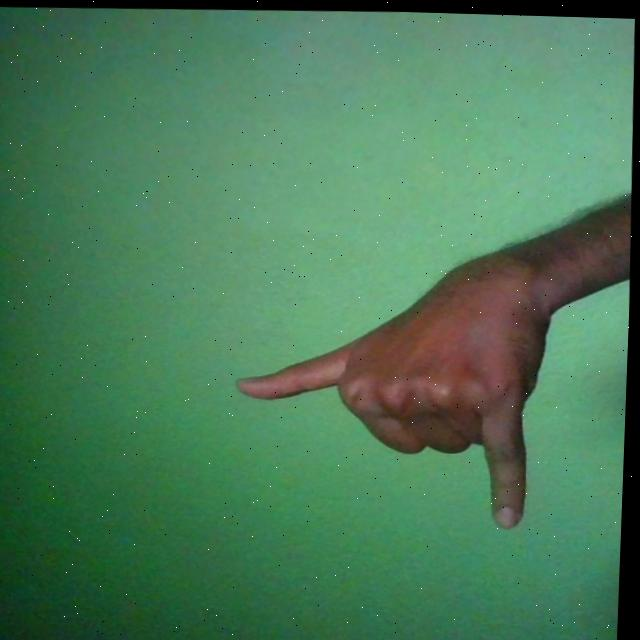Call Me: (230, 240, 564, 531)
